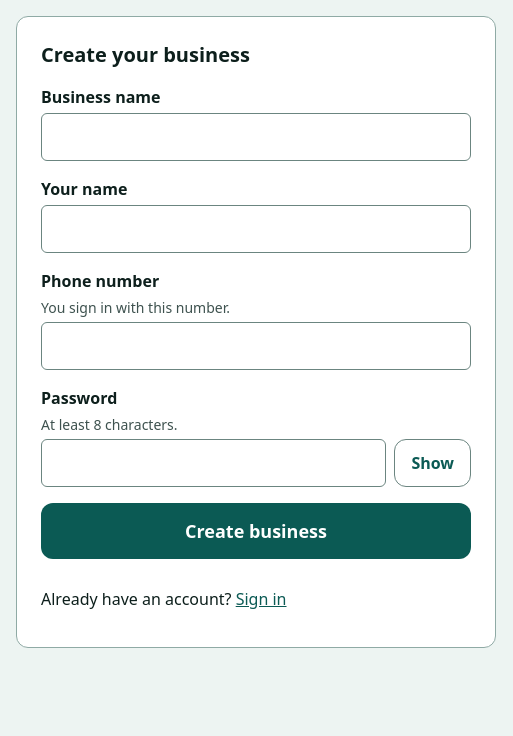
Test: SignUpPage (M1, US1.1) › lists two or more problems in the error summary on submit and moves focus to it
Expected: the heading "Create your business" is shown, [41,41,250,68]
Click the button with test id "signup-submit-button".
click(256, 531)  # box [41,503,471,559]
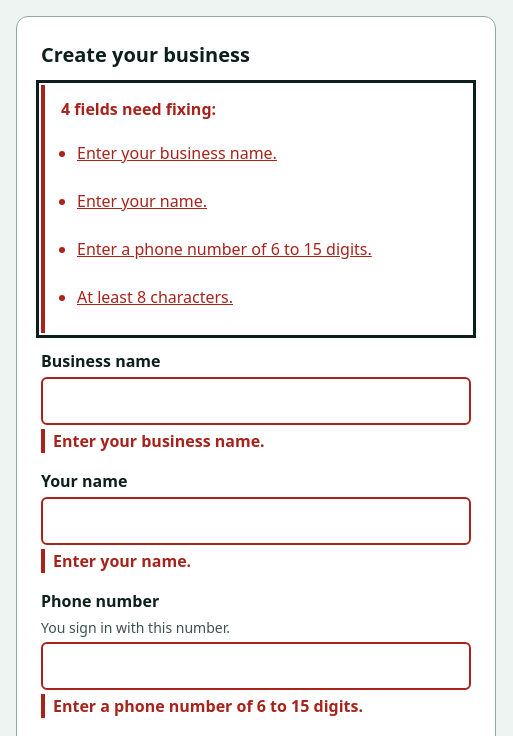
Now the element with test id "signup-error-summary" shows "4 fields need fixing:", box [61,98,216,120]
